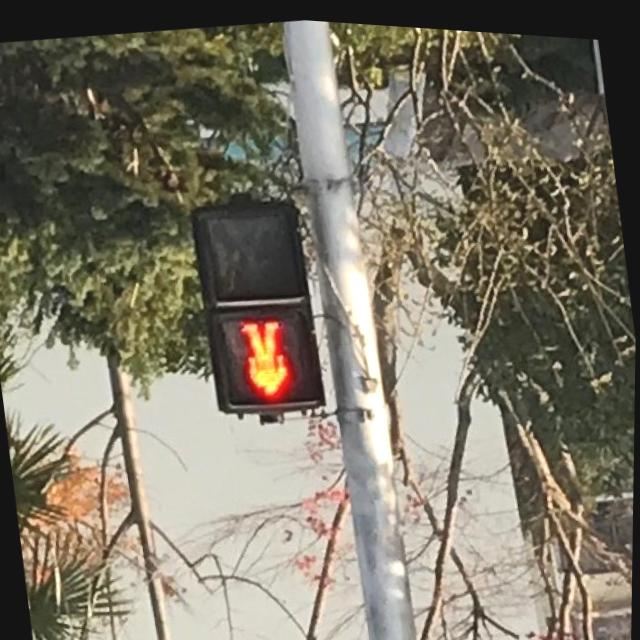red_light: (219, 301, 322, 414)
